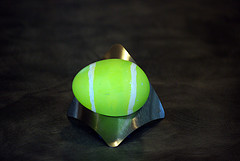tennis ball: (67, 54, 156, 118)
